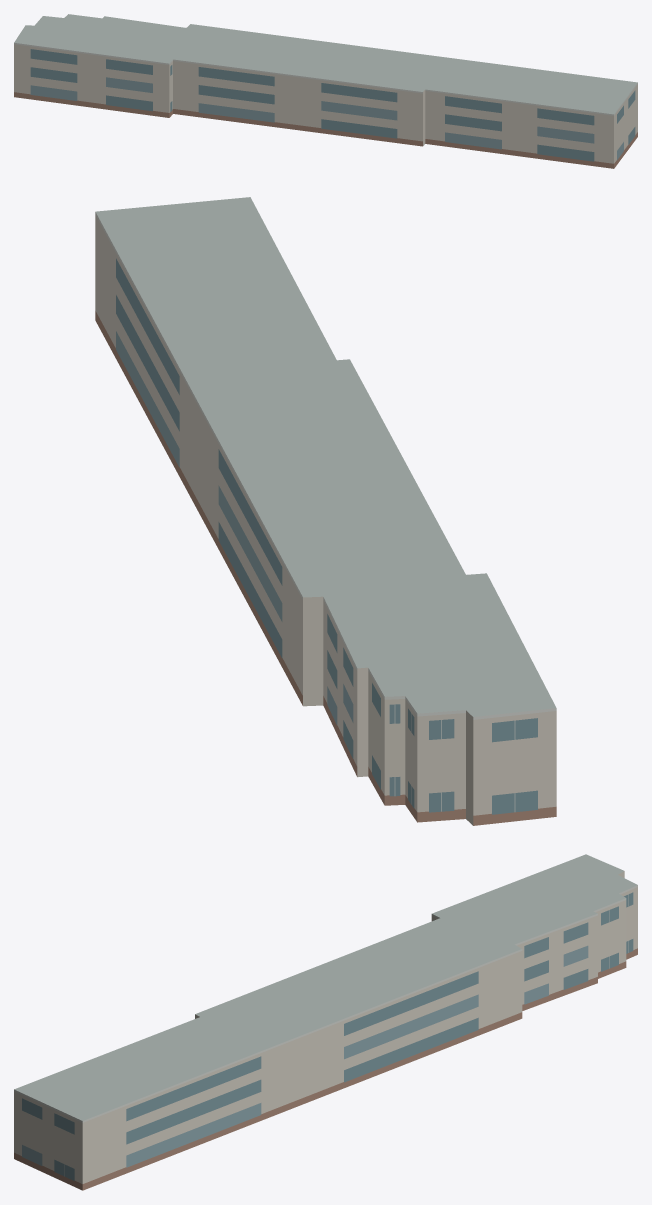
The model's file is survey-upis-32694810.glb.
3 renders of one model, top to bottom at view 1: azimuth 30°, elevation 25°; view 2: azimuth 150°, elevation 25°; view 3: azimuth 270°, elevation 25°, orthographic. The views are drawn at different scales.
Visible parts, largest first — view 1: survey-upis-32694810.tmp; view 2: survey-upis-32694810.tmp; view 3: survey-upis-32694810.tmp.
Boxes of the visible parts, bbox=[...] form: survey-upis-32694810.tmp: bbox=[14, 14, 637, 168]; survey-upis-32694810.tmp: bbox=[95, 197, 556, 825]; survey-upis-32694810.tmp: bbox=[14, 854, 637, 1190].
Bounding box in the file's own units: 75.2 × 9.15 × 74.32.
